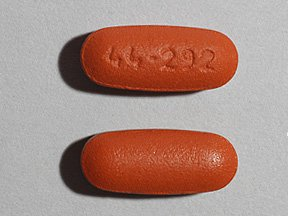Ibuprofen 200 MG Oral Tablet: (67, 19, 251, 96), (76, 124, 242, 200)
